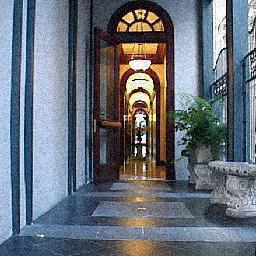Matera: (183, 103, 216, 195)
Puerta: (89, 29, 121, 185)
